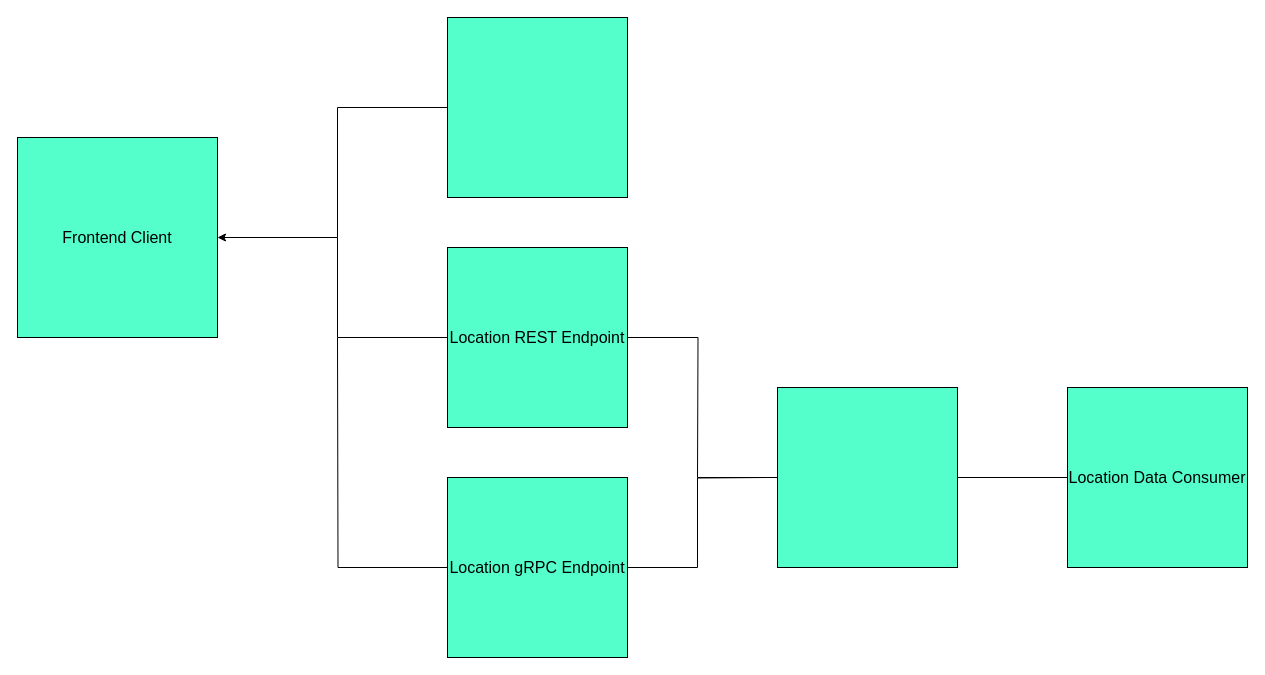
Some shapes in this 1265 by 675 pixel diagram are drawn without their labels. The shapes that lost their labels are listed below. From the top down, each one's box as (x1, y1, x2, y2) in pixels, then its label:
(446, 16, 628, 198): Persons Endpoint
(776, 386, 958, 568): Kafka Cluster
